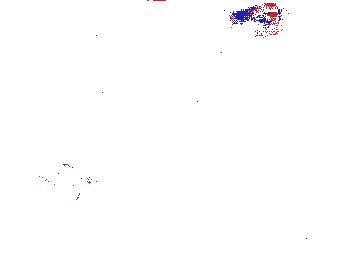X-ray fish: (40, 100, 120, 142), (41, 162, 99, 201)
redtail glassfish: (225, 1, 285, 33)
